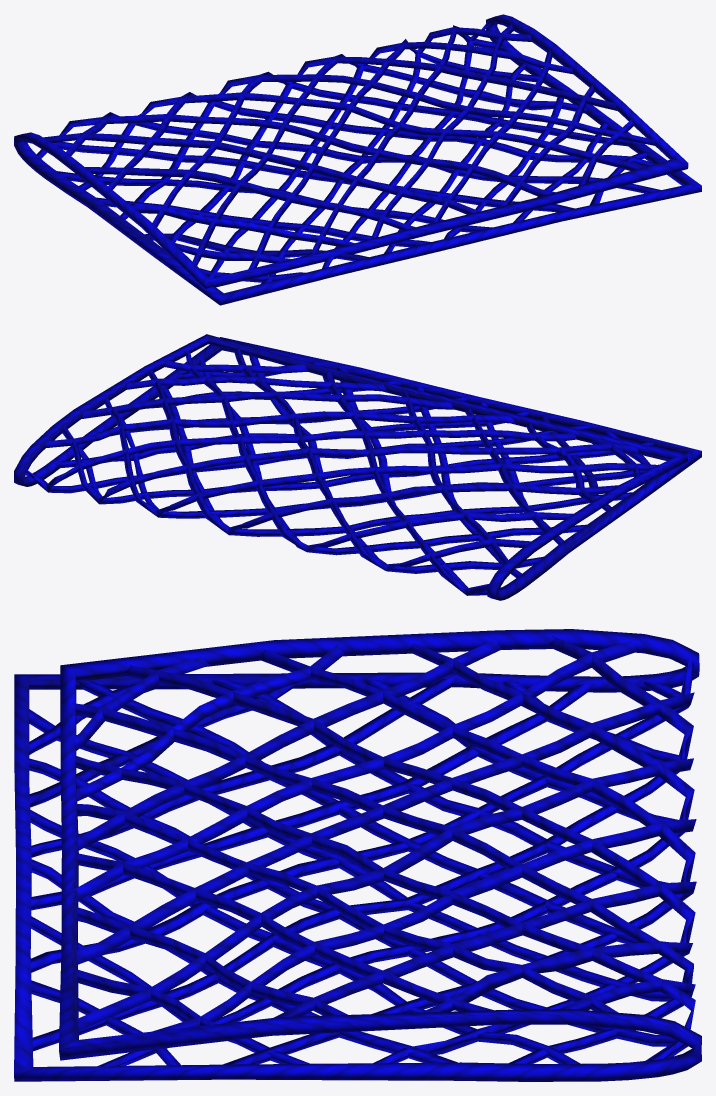
Rendered from Net01.fbx.
3 views of the same model, one above another, from view 1: azimuth 30°, elevation 25°; view 2: azimuth 150°, elevation 25°; view 3: azimuth 270°, elevation 25° (orthographic). The views are drawn at different scales.
Visible parts, largest first — view 1: Net01_LOD0; view 2: Net01_LOD0; view 3: Net01_LOD0.
Boxes of the visible parts, x1,y1,x2,y2 form: Net01_LOD0: (14,14,701,305); Net01_LOD0: (14,334,701,600); Net01_LOD0: (14,629,701,1081).
Size of what is drawn, in the model's own units: 0.4975 by 0.0493 by 0.3694.
